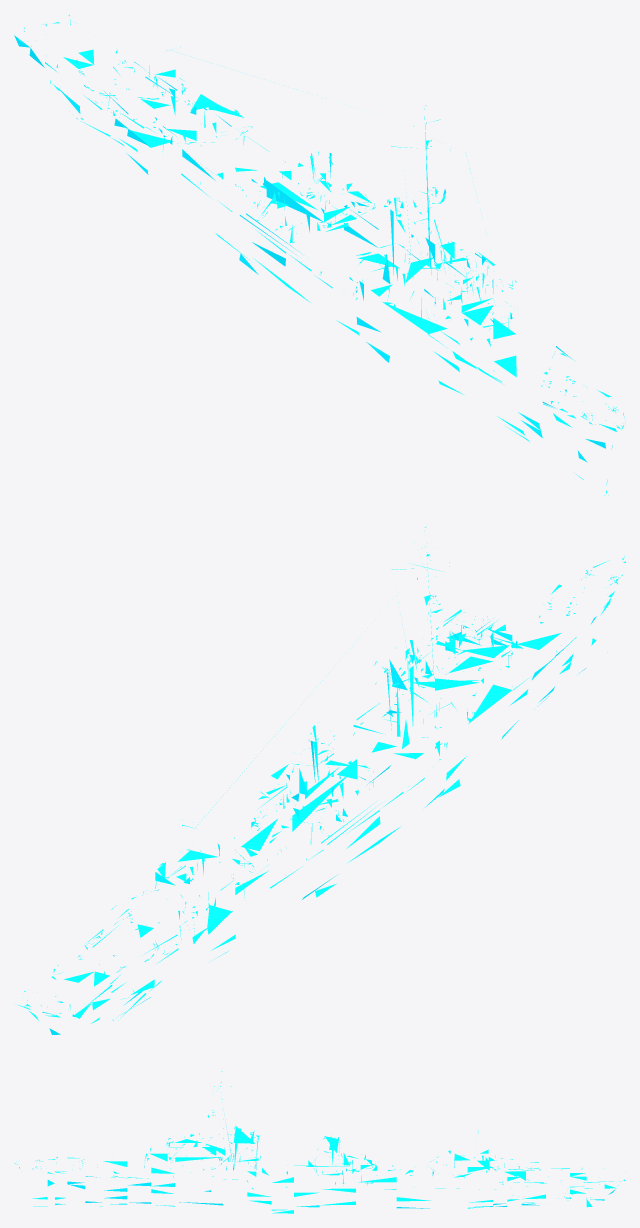
The model's file is z38_EventDday_Heal.glb.
3 renders of one model, top to bottom at view 1: azimuth 30°, elevation 25°; view 2: azimuth 150°, elevation 25°; view 3: azimuth 270°, elevation 25°, orthographic. The views are drawn at different scales.
Size of the model in its own units: 0.7982 by 2.09 by 8.48.
